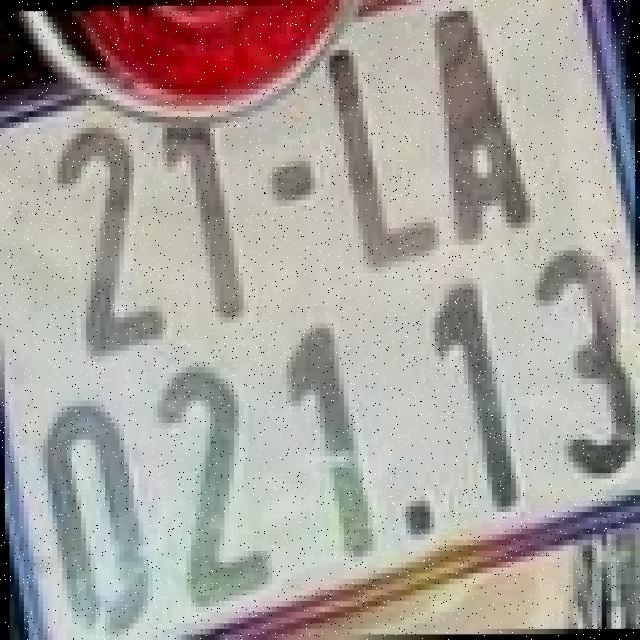0: (38, 395, 158, 629)
1: (284, 317, 385, 557), (427, 275, 528, 515), (158, 111, 258, 323)
2: (156, 353, 280, 610), (46, 114, 170, 359)
3: (530, 239, 640, 479)
A: (432, 5, 542, 245)
L: (325, 39, 444, 267)
